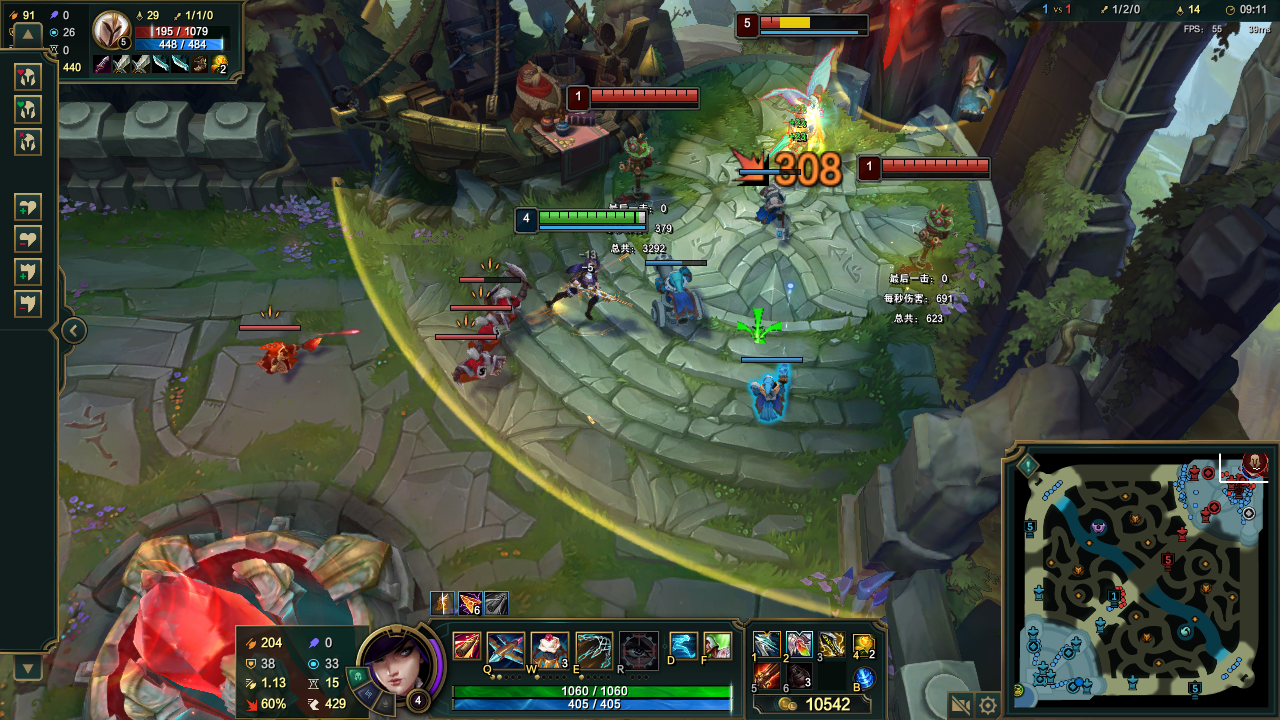DFDSJ: (116, 505, 365, 616)
DFYX: (588, 85, 700, 102), (879, 154, 996, 170), (761, 13, 872, 28)
